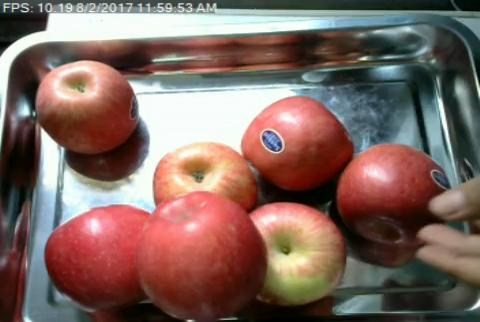apple: (136, 190, 266, 319), (44, 204, 154, 308), (238, 95, 352, 189), (242, 202, 345, 306), (337, 145, 443, 245), (33, 59, 140, 155), (152, 141, 256, 209)
